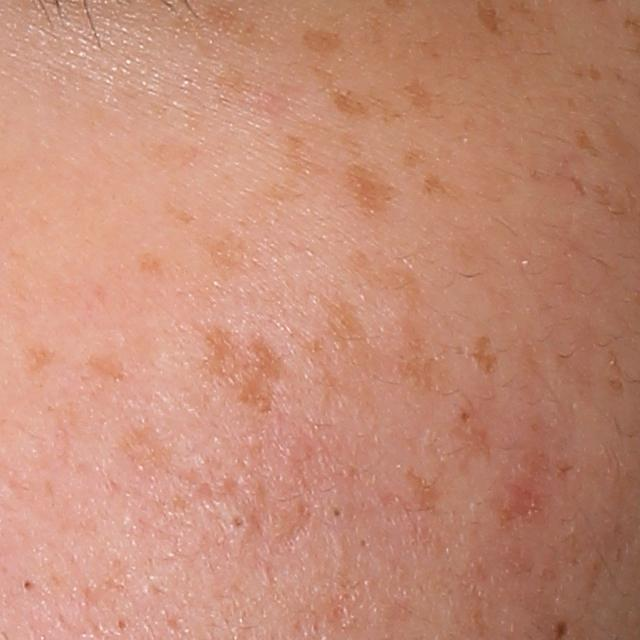comedo: (228, 504, 249, 532), (328, 501, 349, 524), (18, 577, 37, 596), (112, 615, 132, 633)
melasma: (295, 286, 460, 420), (203, 324, 287, 418), (299, 63, 406, 128), (253, 129, 340, 205), (112, 418, 183, 474), (194, 232, 263, 284), (346, 160, 402, 219), (299, 22, 357, 58), (80, 349, 128, 387), (401, 73, 438, 115), (20, 341, 58, 379), (471, 334, 501, 380), (133, 247, 171, 281), (421, 169, 461, 201), (161, 198, 199, 230), (397, 145, 433, 172), (573, 129, 602, 159), (584, 59, 607, 83), (566, 173, 588, 198)
